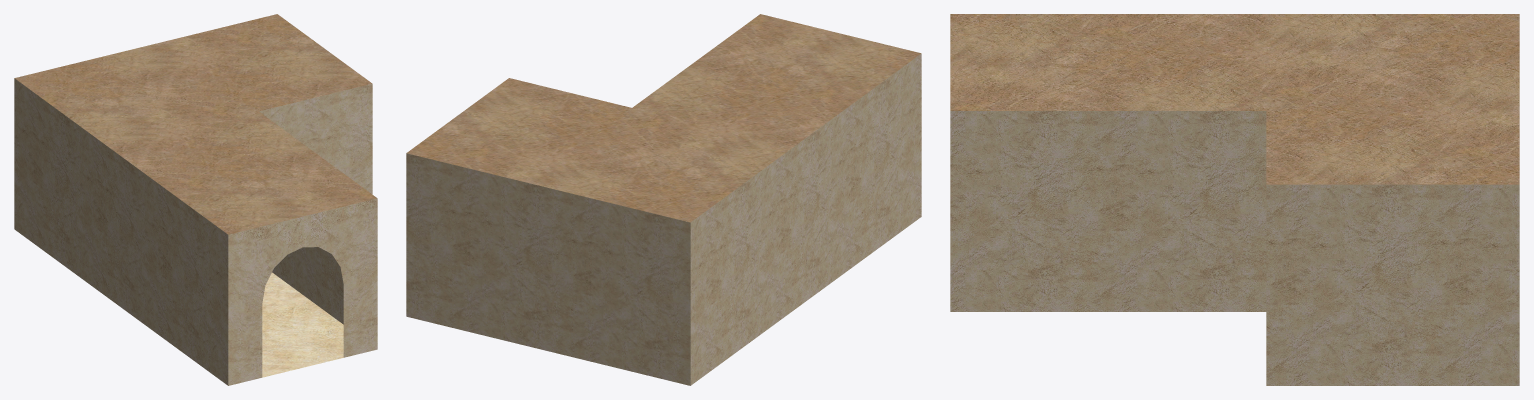
Rendered from thm_tato_imprv_building_s08_r1_foyer_mesh_l0.fbx.
3 views of the same model, side by side, from view 1: azimuth 30°, elevation 25°; view 2: azimuth 150°, elevation 25°; view 3: azimuth 270°, elevation 25° (orthographic). The views are drawn at different scales.
Visible parts, largest first — view 1: mesh_node; view 2: mesh_node; view 3: mesh_node.
Boxes of the visible parts, <box> form: mesh_node: <box>14,14,377,385</box>; mesh_node: <box>406,14,921,385</box>; mesh_node: <box>950,14,1519,385</box>.
Size of the model in its own units: 7.05 by 3.87 by 9.93.
